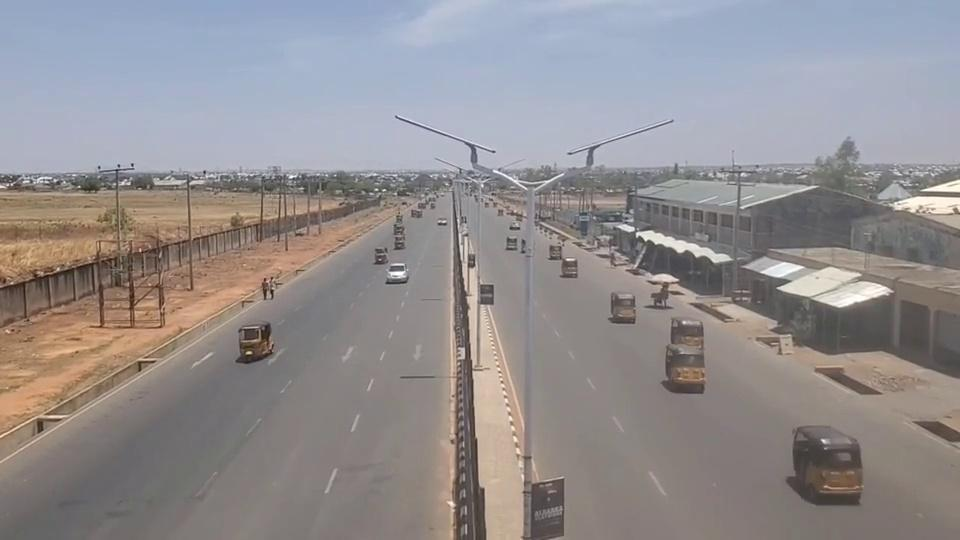car: (385, 262, 409, 283)
keke: (792, 426, 865, 503), (236, 322, 276, 364), (610, 291, 637, 324), (561, 257, 578, 278), (374, 246, 388, 264), (549, 244, 562, 260), (506, 236, 518, 250)
